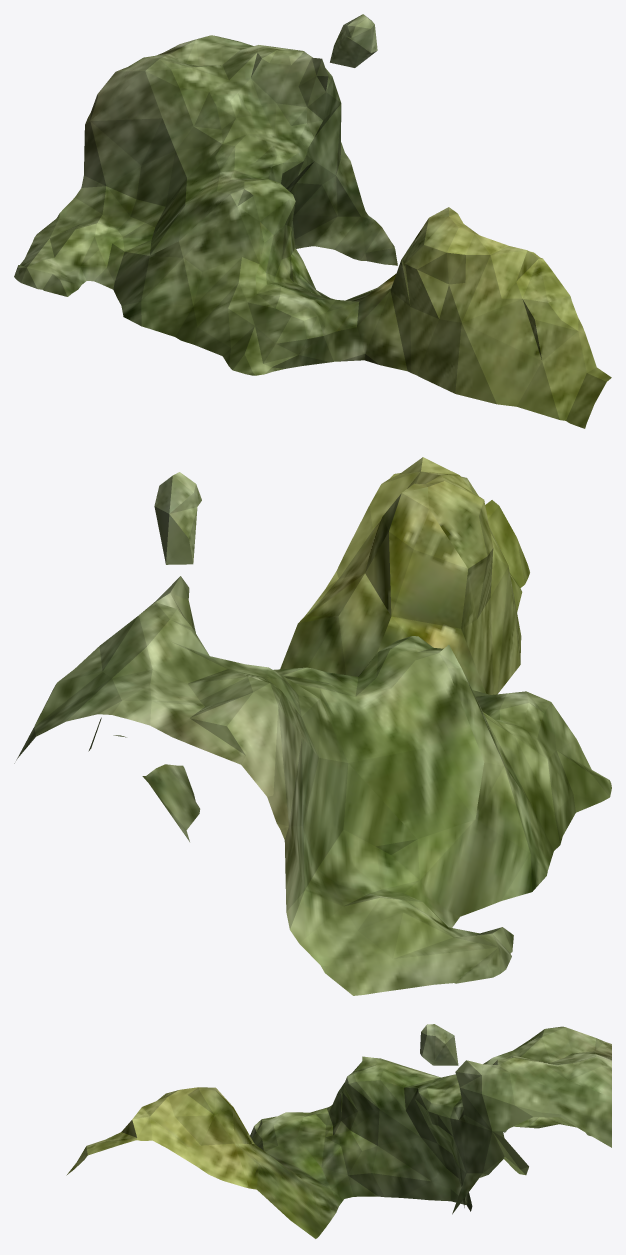
The picture shows the model from 3 angles, top to bottom: view 1: azimuth 30°, elevation 25°; view 2: azimuth 150°, elevation 25°; view 3: azimuth 270°, elevation 25°; orthographic projection. The views are drawn at different scales.
Size of the model in its own units: 1.52 by 1.15 by 2.95.
2 materials, 2 textured.
